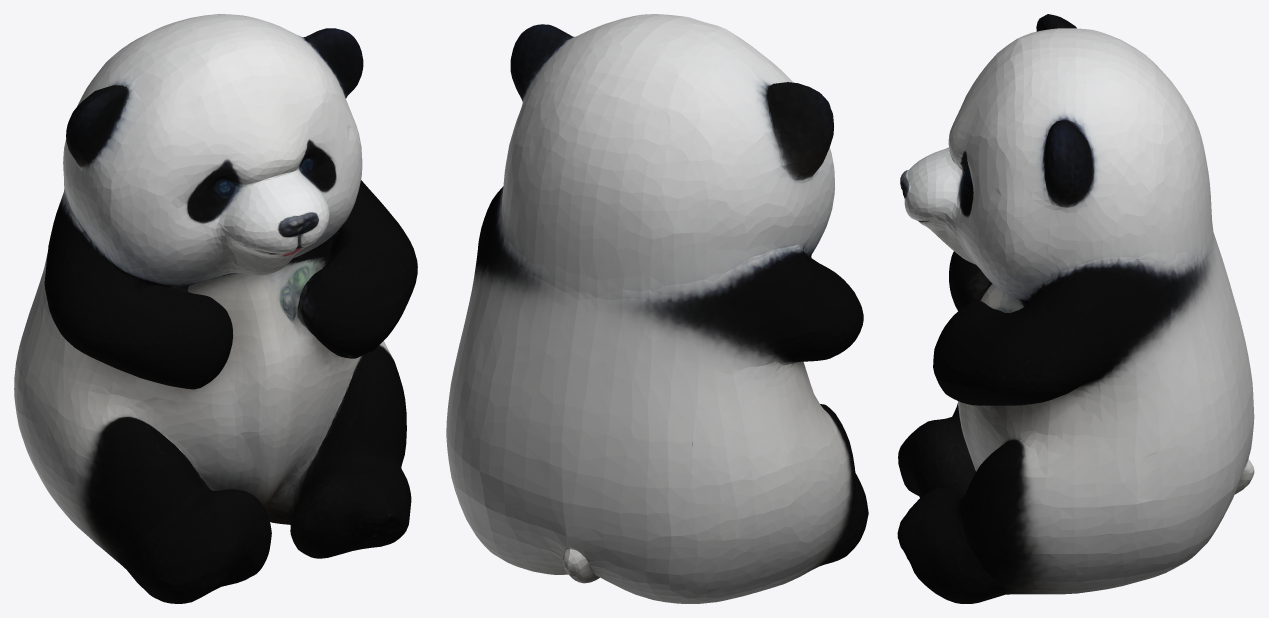
The model's file is panda.glb.
3 views of the same model, side by side, from view 1: azimuth 30°, elevation 25°; view 2: azimuth 150°, elevation 25°; view 3: azimuth 270°, elevation 25° (orthographic). The views are drawn at different scales.
Parts seen in each view (by area): view 1: world; view 2: world; view 3: world.
Boxes of the visible parts, x1,y1,x2,y2 form: world: [14, 14, 417, 603]; world: [446, 14, 868, 603]; world: [897, 14, 1254, 603].
Bounding box in the file's own units: 0.7061 × 0.9994 × 0.6392.
1 material, 1 textured.
